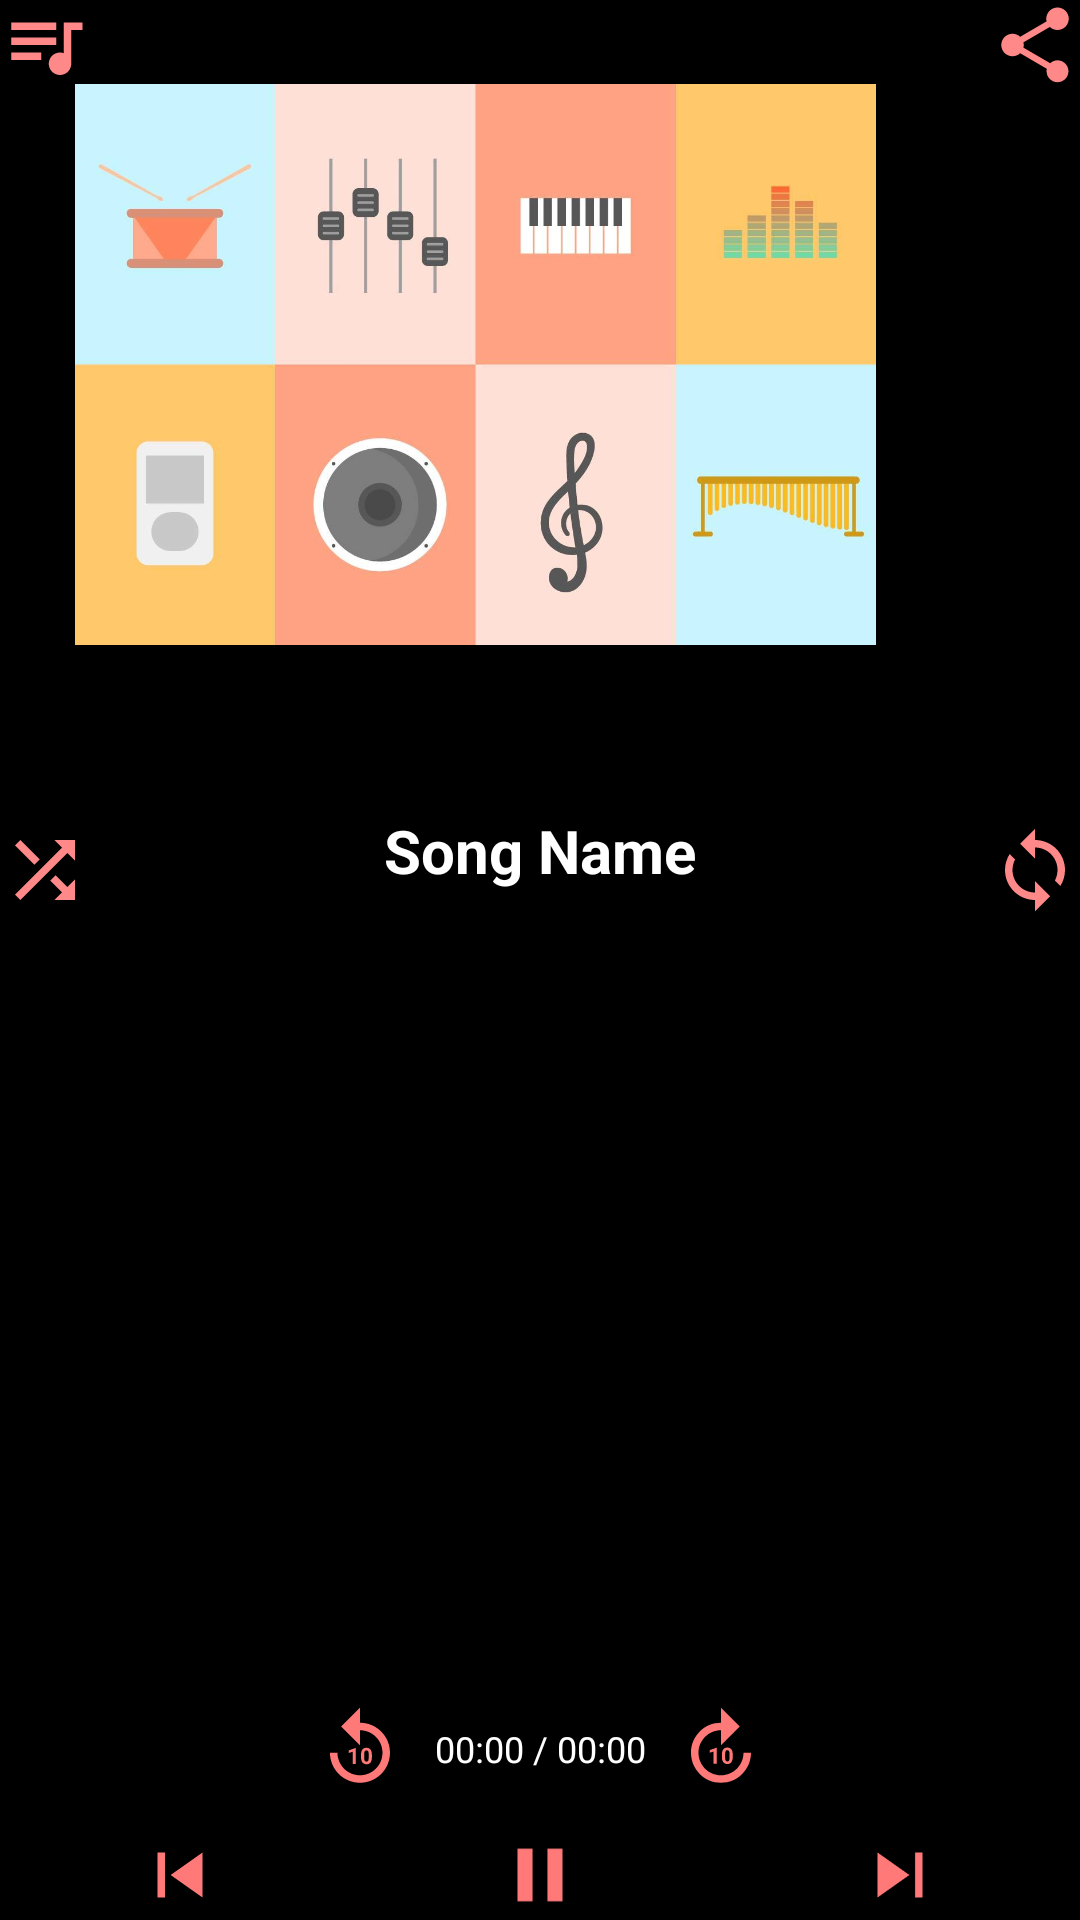

Named icons in this screenshot (1080 × 1920) and their bounding boxes, (x1, y1, x2, y2):
Backward: (330, 1708, 390, 1783)
Forward: (691, 1708, 751, 1783)
loop: (1005, 829, 1065, 911)
Next: (877, 1852, 923, 1898)
Pause: (517, 1848, 563, 1902)
Play List: (11, 22, 83, 75)
Previous: (157, 1852, 203, 1898)
Share: (1001, 7, 1069, 83)
shuffle: (15, 840, 75, 900)
